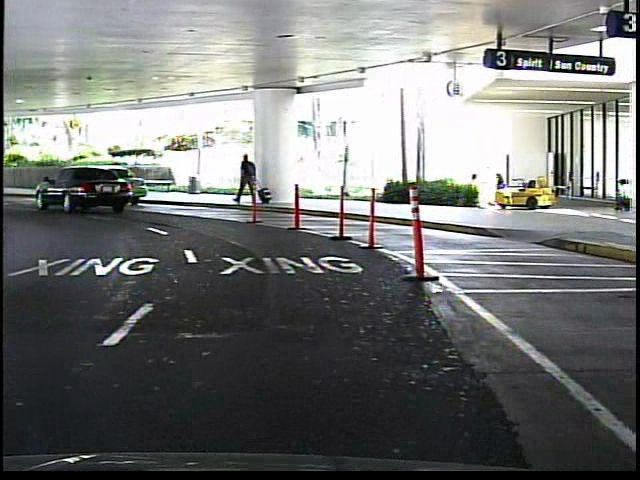person: (236, 150, 263, 211), (610, 175, 636, 215)
